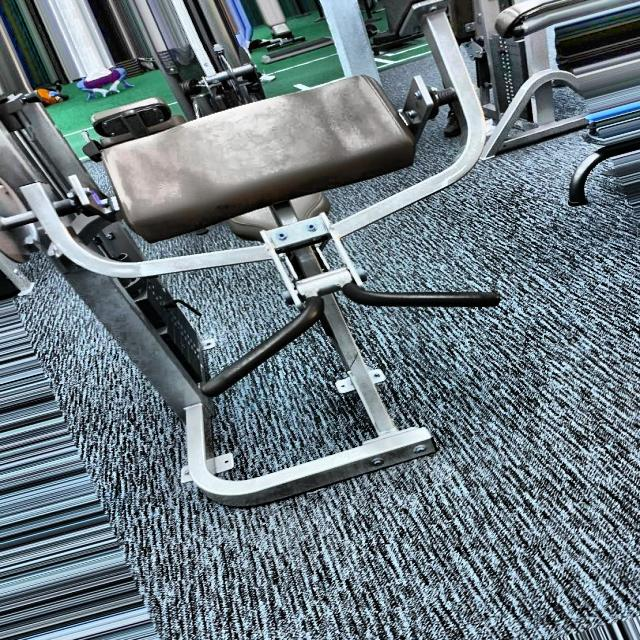bicep_curl_machine: (5, 1, 528, 550)
